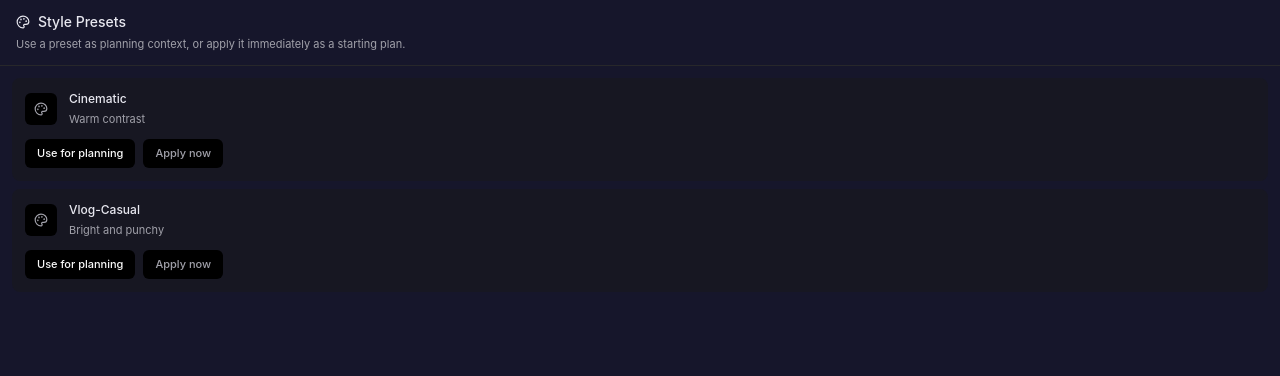
Scenario: StylePanel › replaces and clears the planning style selection
What coordinates should you click on to do the following:
click the button "Use for planning" below "Warm contrast"
I would click on:
 (80, 153)
Its box is [25, 139, 135, 168].
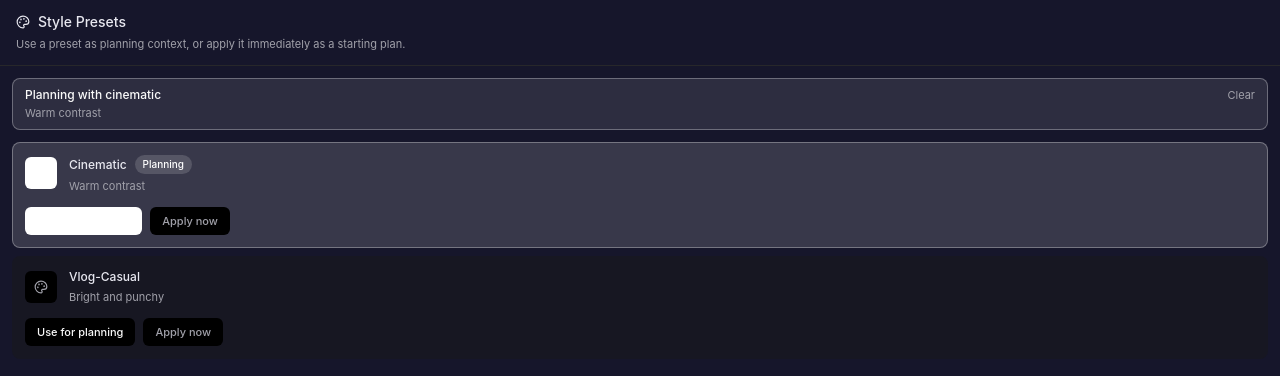
Expected: the text "Planning with cinematic" is shown, [25, 86, 161, 102]
What coordinates should you click on to do the following:
click the button "Use for planning"
I would click on:
 (80, 332)
Its box is [25, 318, 135, 346].
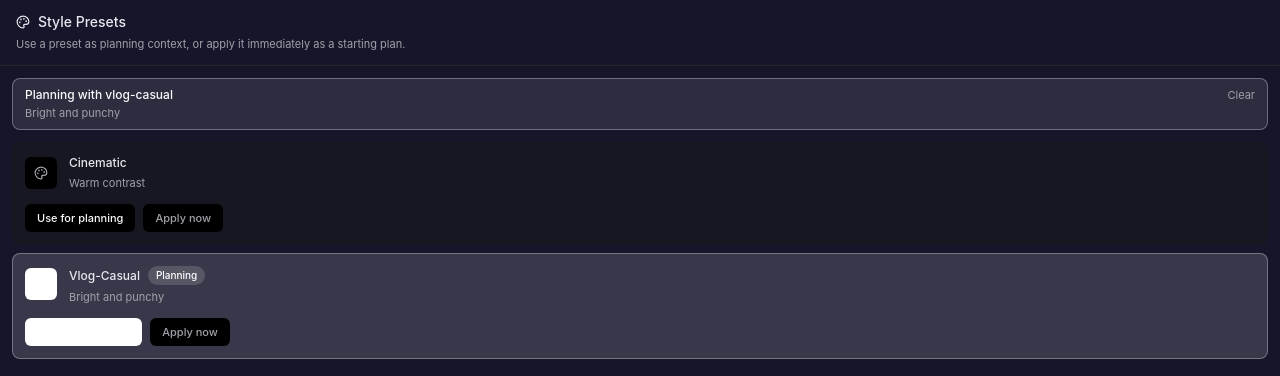
Expected: the text "Planning with vlog-casual" is shown, [25, 86, 173, 102]
Expected: the text "Planning with cinematic" is gone
What coordinates should you click on to do the following:
click the button "Clear"
I would click on:
 (1241, 95)
Its box is [1228, 86, 1255, 103].
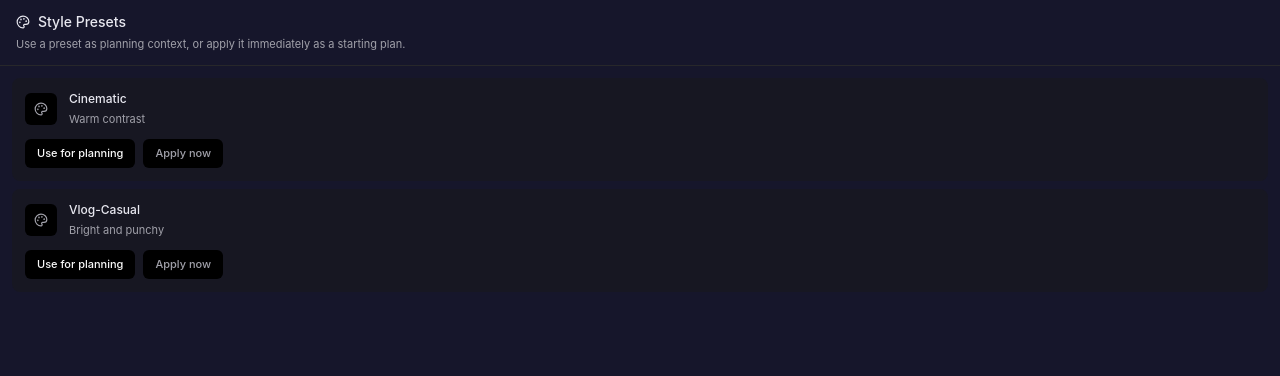
Expected: the text "Planning with vlog-casual" is gone
